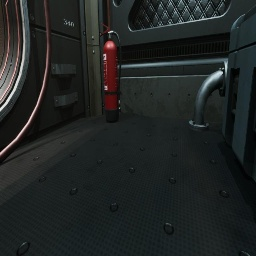FireExtinguisher ]: (101, 23, 122, 123)
